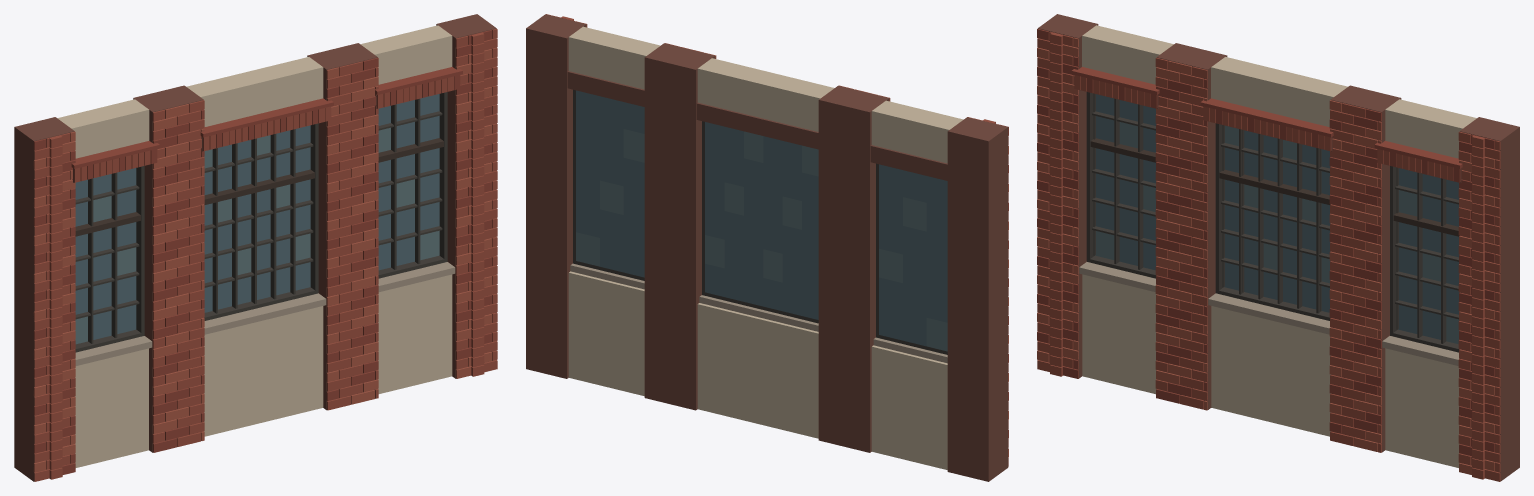
The model's file is hongkou-ruikang-apartments-west-steel-windows-full.glb.
3 renders of one model, left to right at view 1: azimuth 30°, elevation 25°; view 2: azimuth 150°, elevation 25°; view 3: azimuth 330°, elevation 25°, orthographic.
Visible parts, largest first — view 1: 瑞康公寓四川北路西立面三联钢窗与砖柱; view 2: 瑞康公寓四川北路西立面三联钢窗与砖柱; view 3: 瑞康公寓四川北路西立面三联钢窗与砖柱.
Part boxes in pixels (x1,y1,x2,y2): 瑞康公寓四川北路西立面三联钢窗与砖柱: (14, 14, 497, 481); 瑞康公寓四川北路西立面三联钢窗与砖柱: (526, 14, 1008, 481); 瑞康公寓四川北路西立面三联钢窗与砖柱: (1037, 14, 1519, 481).
Size of the model in its own units: 4.52 by 3.18 by 0.386.
